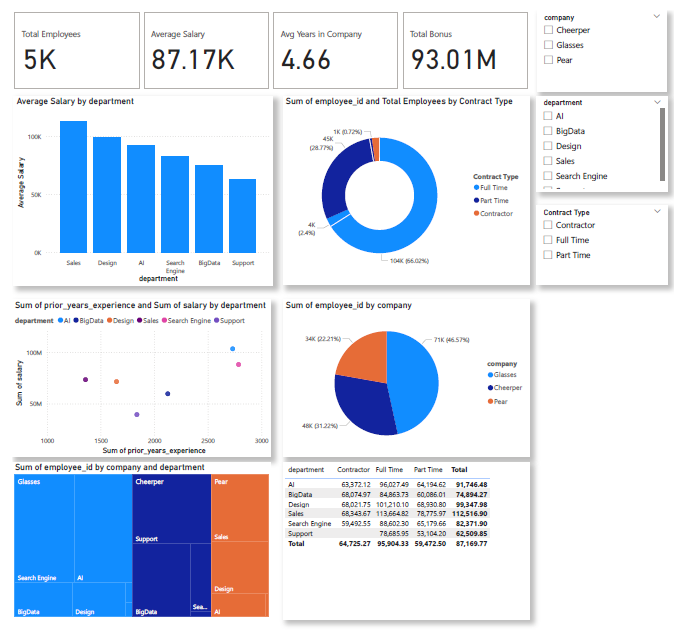

Layout of this report page (visuals, bound fields, positions):
{"tool":"powerbi","page":{"name":"Page 1","canvas":[1280,1200],"ordinal":0},"visuals":[{"type":"cardVisual","fields":{"Data":["company_employee_details.Total Employees"]},"box":[0,0,250,156.2],"z":1},{"type":"cardVisual","fields":{"Data":["company_employee_details.Average Salary"]},"box":[250.3,0,250.3,156.2],"z":2},{"type":"cardVisual","fields":{"Data":["company_employee_details.Total Bonus"]},"box":[750.9,0,250.3,156.2],"z":3},{"type":"cardVisual","fields":{"Data":["company_employee_details.Avg Years in Company"]},"box":[500.6,0,250.3,156.2],"z":4},{"type":"columnChart","fields":{"Category":["company_employee_details.department"],"Y":["company_employee_details.Average Salary"]},"box":[3.4,166.3,500.6,366.2],"z":5},{"type":"donutChart","fields":{"Y":["Sum(company_employee_details.employee_id)","company_employee_details.Total Employees"],"Category":["company_employee_details.Contract Type"]},"box":[523.8,165.6,477,365.4],"z":6},{"type":"scatterChart","fields":{"X":["Sum(company_employee_details.prior_years_experience)"],"Y":["Sum(company_employee_details.salary)"],"Series":["company_employee_details.department"]},"box":[0,559.8,500.4,304.2],"z":7},{"type":"pieChart","fields":{"Category":["company_employee_details.company"],"Y":["Sum(company_employee_details.employee_id)"]},"box":[523.8,559.8,477,304.2],"z":8},{"type":"treemap","fields":{"Group":["company_employee_details.company"],"Details":["company_employee_details.department"],"Values":["Sum(company_employee_details.employee_id)"]},"box":[0,874,500,304],"z":9},{"type":"pivotTable","fields":{"Rows":["company_employee_details.department"],"Columns":["company_employee_details.Contract Type"],"Values":["company_employee_details.Average Salary"]},"box":[524,874,477,304],"z":10},{"type":"slicer","fields":{"Values":["company_employee_details.company"]},"box":[1015.5,0,250,156],"z":11},{"type":"slicer","fields":{"Values":["company_employee_details.department"]},"box":[1015.2,165.6,252,184.8],"z":12},{"type":"slicer","fields":{"Values":["company_employee_details.Contract Type"]},"box":[1015.2,376.8,252,153.6],"z":13}]}

Visuals, with their boxes in screenshot pixels (x1, y1, x2, y2), scaled from the page's 1280x1200 canvas onto the 682x641 screenshot:
cardVisual - company_employee_details.Total Employees: 0/0/133/83
cardVisual - company_employee_details.Average Salary: 133/0/267/83
cardVisual - company_employee_details.Total Bonus: 400/0/533/83
cardVisual - company_employee_details.Avg Years in Company: 267/0/400/83
columnChart - company_employee_details.department x company_employee_details.Average Salary: 2/89/269/284
donutChart - Sum(company_employee_details.employee_id) x company_employee_details.Total Employees: 279/88/533/284
scatterChart - Sum(company_employee_details.prior_years_experience) x Sum(company_employee_details.salary): 0/299/267/462
pieChart - company_employee_details.company x Sum(company_employee_details.employee_id): 279/299/533/462
treemap - company_employee_details.company x company_employee_details.department: 0/467/266/629
pivotTable - company_employee_details.department x company_employee_details.Contract Type: 279/467/533/629
slicer - company_employee_details.company: 541/0/674/83
slicer - company_employee_details.department: 541/88/675/187
slicer - company_employee_details.Contract Type: 541/201/675/283
